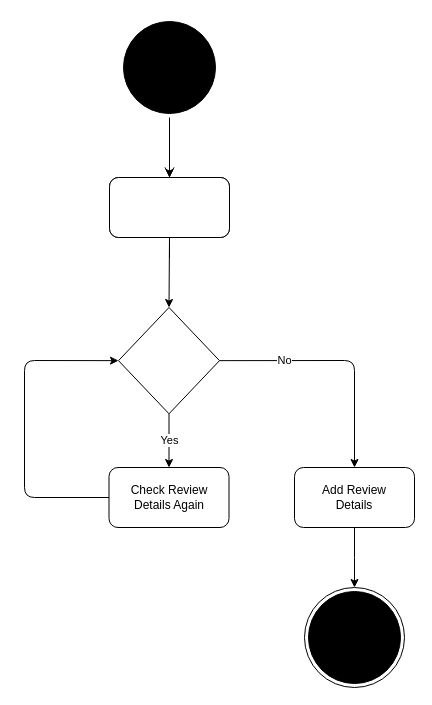
Image size: 432x705. Some labels were removed from this diagram. The centre of each missing label's shape, as x and y in pixels:
"Does Review Exist?" goes at (169,360).
"Pending Adding Review" goes at (169,207).
